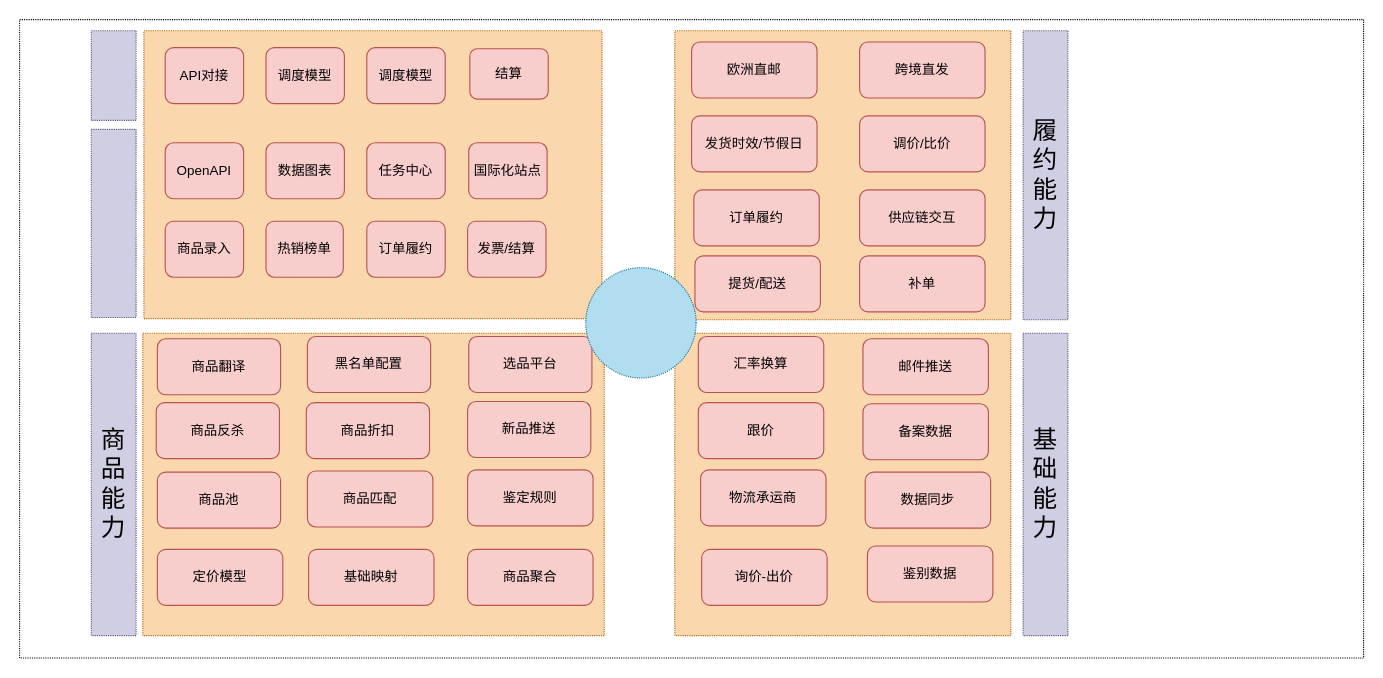
Some shapes in this 1383 by 678 pixel diagram are drawn without their labels. Each missing label, with the box of its shape:
S A A S: (90, 128, 136, 318)
买手店: (90, 30, 136, 120)
国际SAAS: (585, 267, 696, 378)
